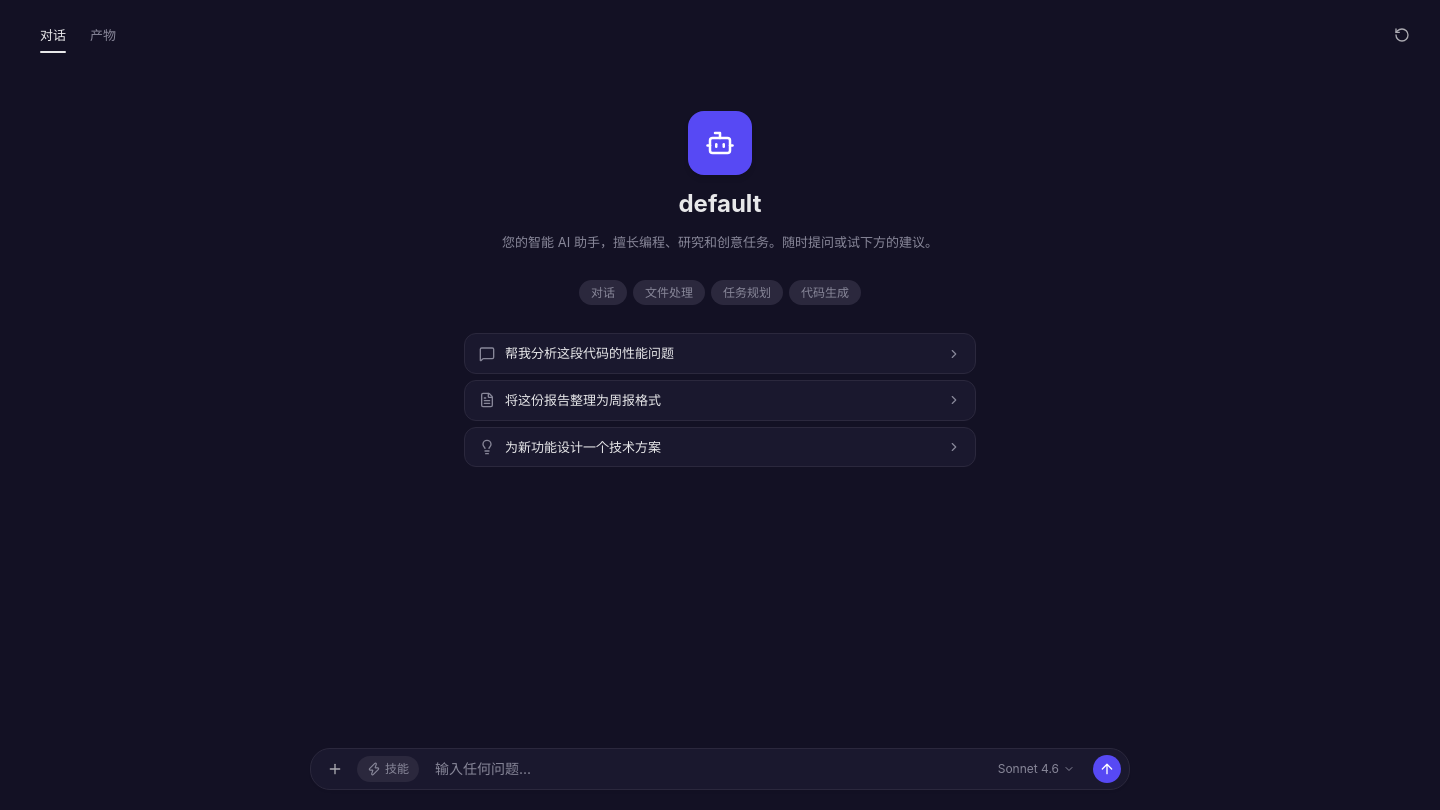
Test case: ChatPage › welcome → user send → assistant reply renders
Check: the element with test id "chat-welcome" is shown, box [464, 111, 976, 467]
Type "hello" into the field at point(703, 769), box [427, 755, 980, 783]
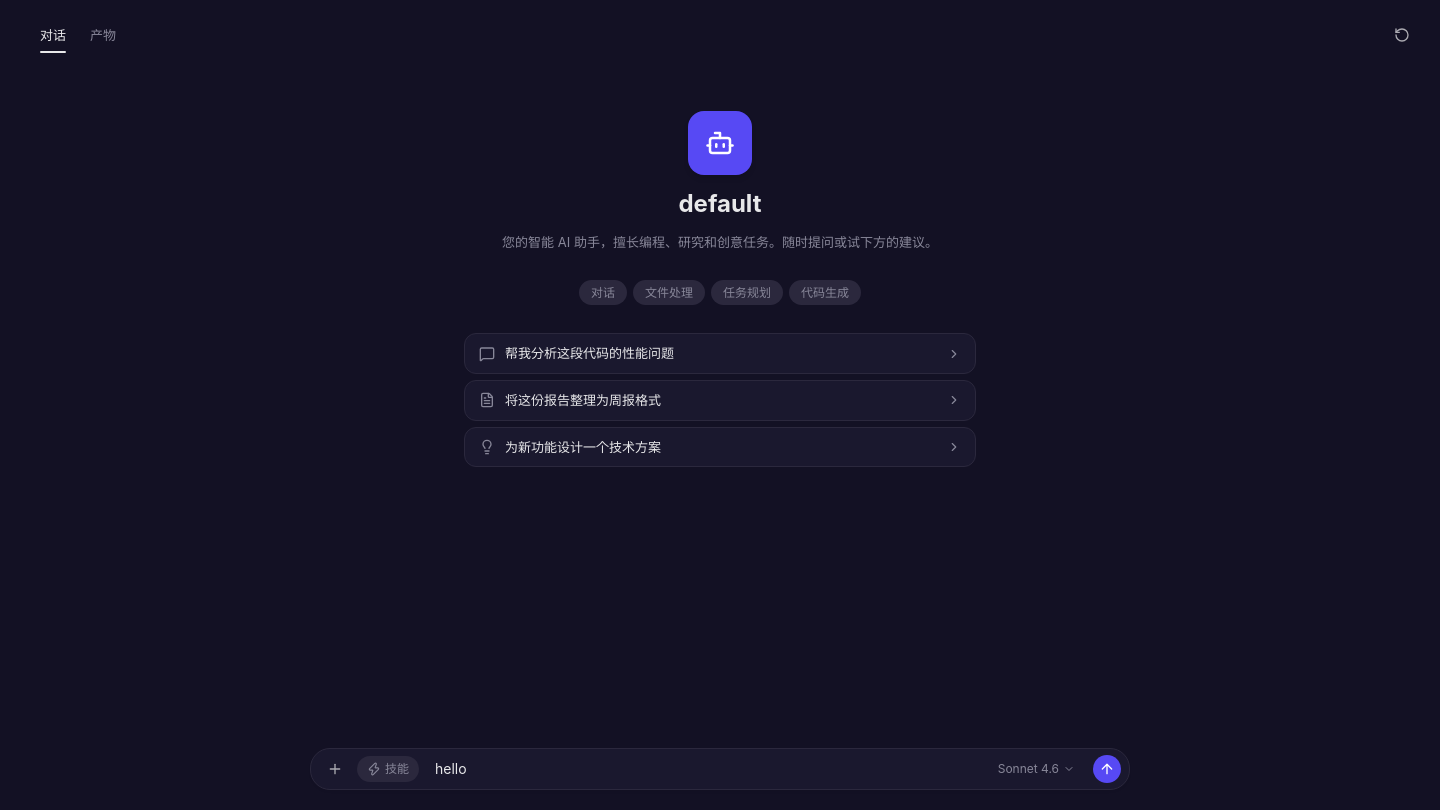
Submit the form, box [310, 748, 1130, 790]
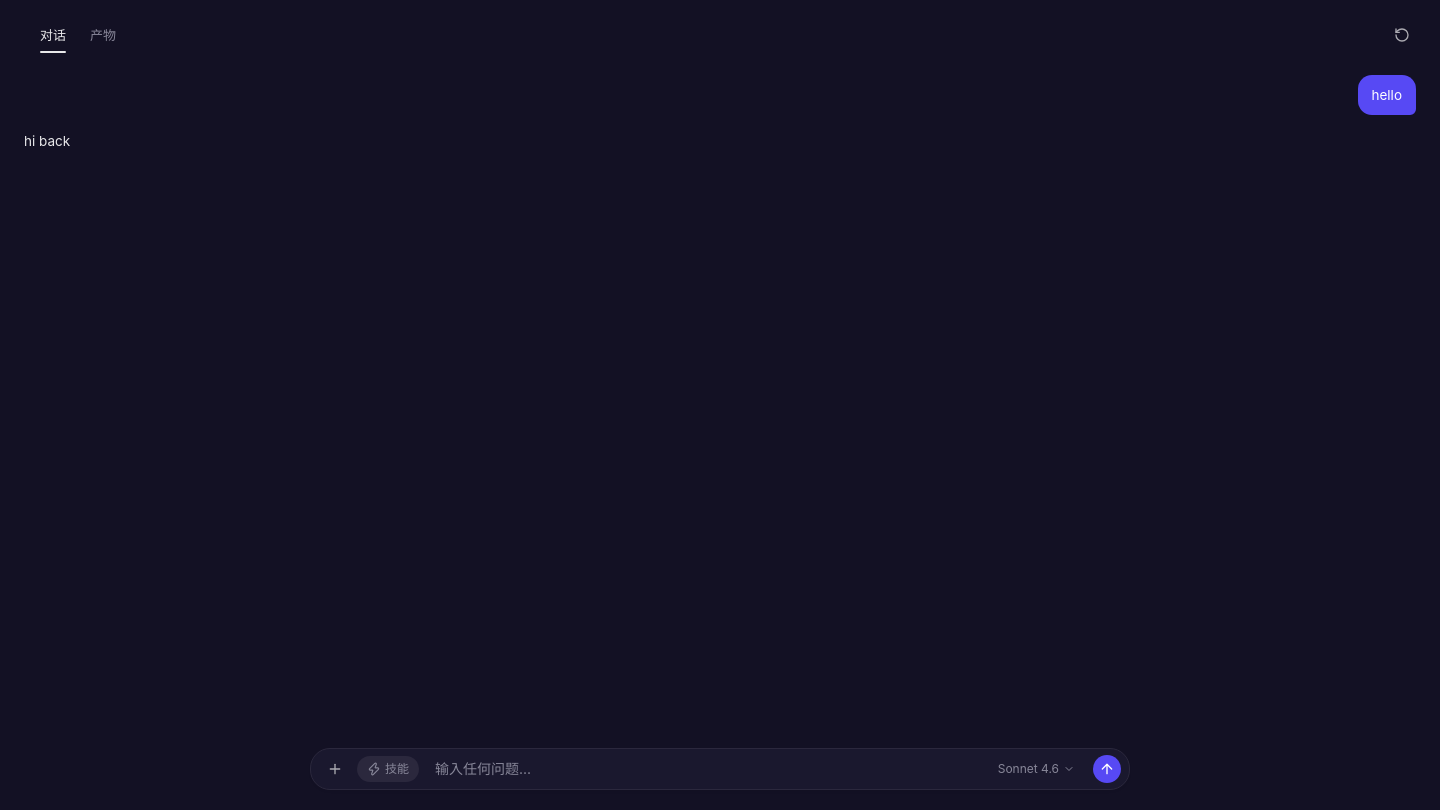
Check: the text "hello" is shown, box [1372, 87, 1402, 103]
Check: the text "hi back" is shown, box [24, 132, 70, 152]
